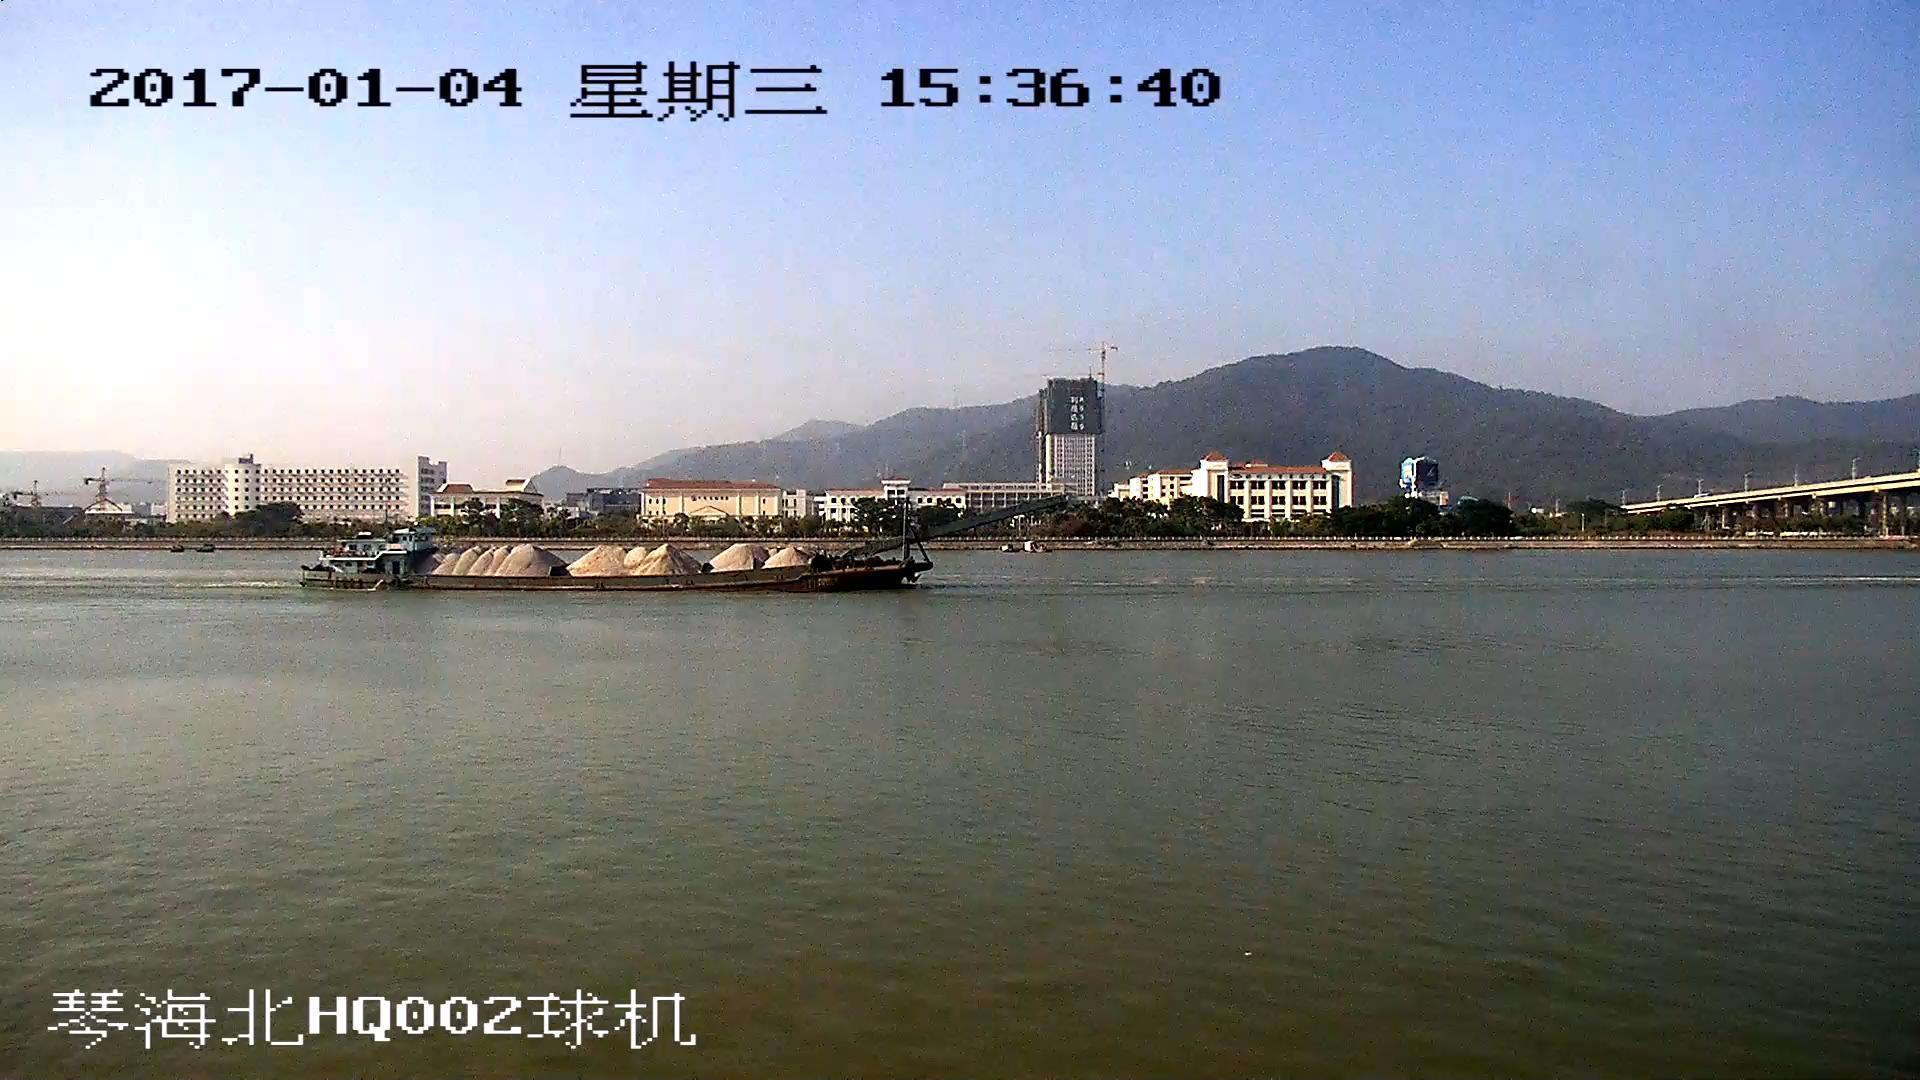Ship: (301, 498, 1064, 589)
